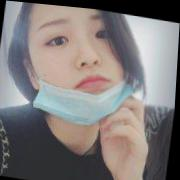WRONG: (22, 3, 136, 128)
